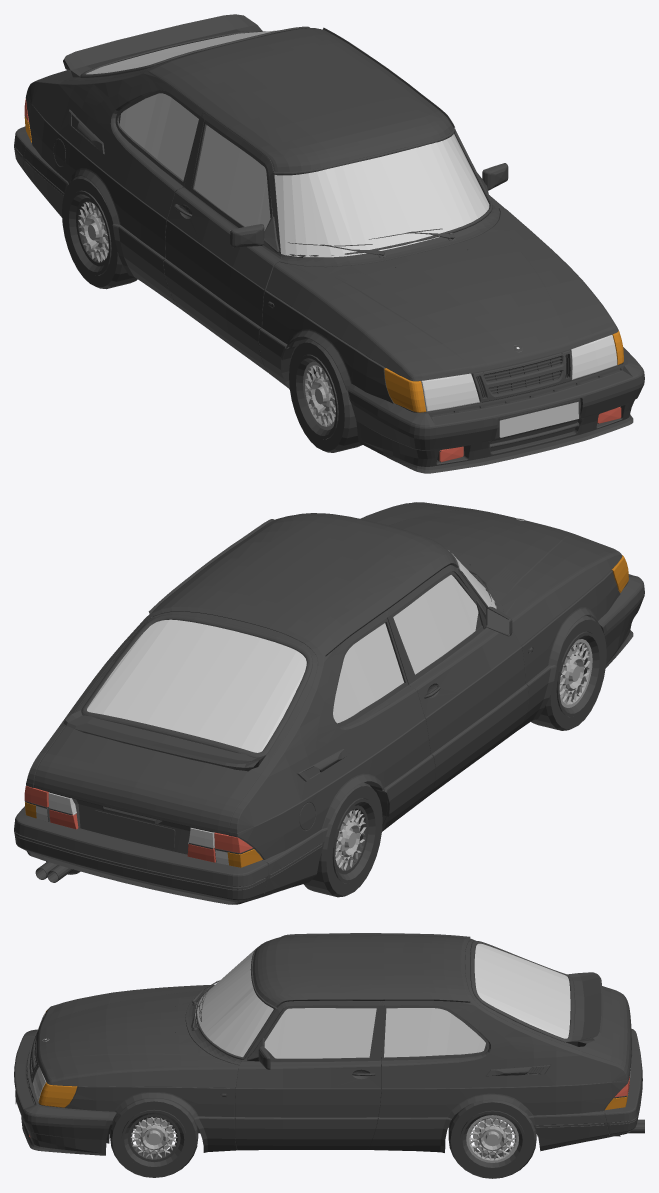
File: Saab.fbx
3 views of the same model, one above another, from view 1: azimuth 30°, elevation 25°; view 2: azimuth 150°, elevation 25°; view 3: azimuth 270°, elevation 25° (orthographic). The views are drawn at different scales.
Parts seen in each view (by area): view 1: Untitled; view 2: Untitled; view 3: Untitled.
Part boxes in pixels (x1,y1,x2,y2): Untitled: [14, 14, 644, 473]; Untitled: [14, 502, 644, 904]; Untitled: [14, 933, 644, 1178].
Size of the model in its own units: 333 by 266 by 874.
